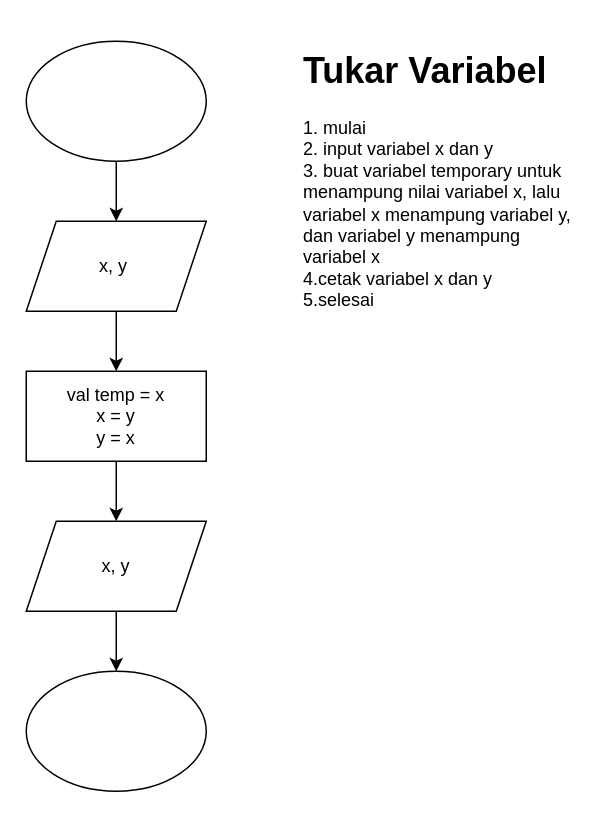
The diagram is 608 pixels wide and 818 high, and some of its shapes have lost their labels. The box of each missing label's shape, as (x1, y1, x2, y2) in pixels:
mulai: (25, 40, 206, 161)
selesai: (25, 670, 206, 791)
